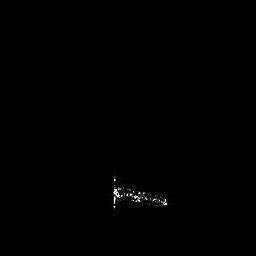ship: (106, 173, 171, 213)
